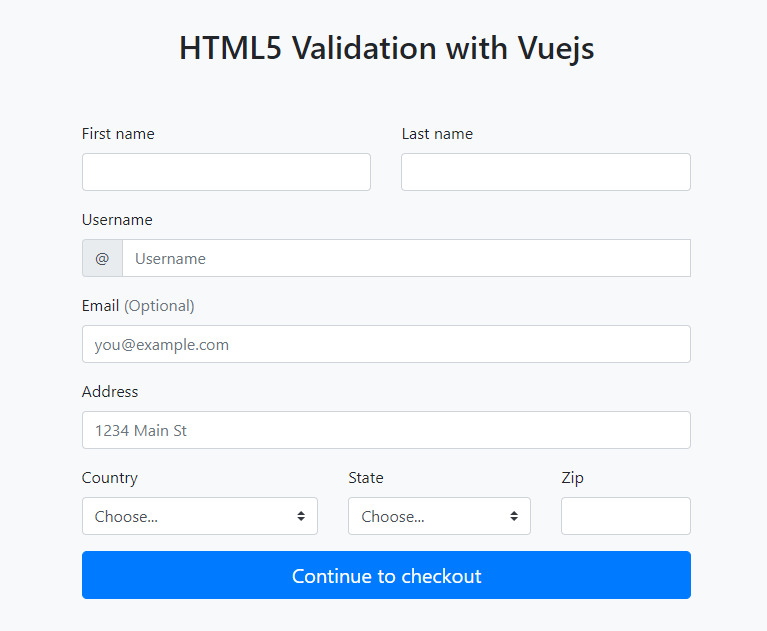_form_: (326, 128, 743, 544), (68, 128, 484, 544)
button: (78, 548, 694, 602)
field: (80, 323, 695, 365), (80, 408, 693, 450), (80, 237, 692, 279), (398, 150, 693, 193), (80, 150, 372, 193), (560, 494, 694, 539)
field_with_label: (75, 209, 696, 284), (74, 297, 699, 369), (76, 383, 699, 453), (393, 124, 696, 196), (75, 124, 375, 196), (76, 469, 324, 540), (337, 468, 541, 541), (556, 468, 697, 542)
select: (81, 494, 318, 537), (342, 495, 535, 537)
